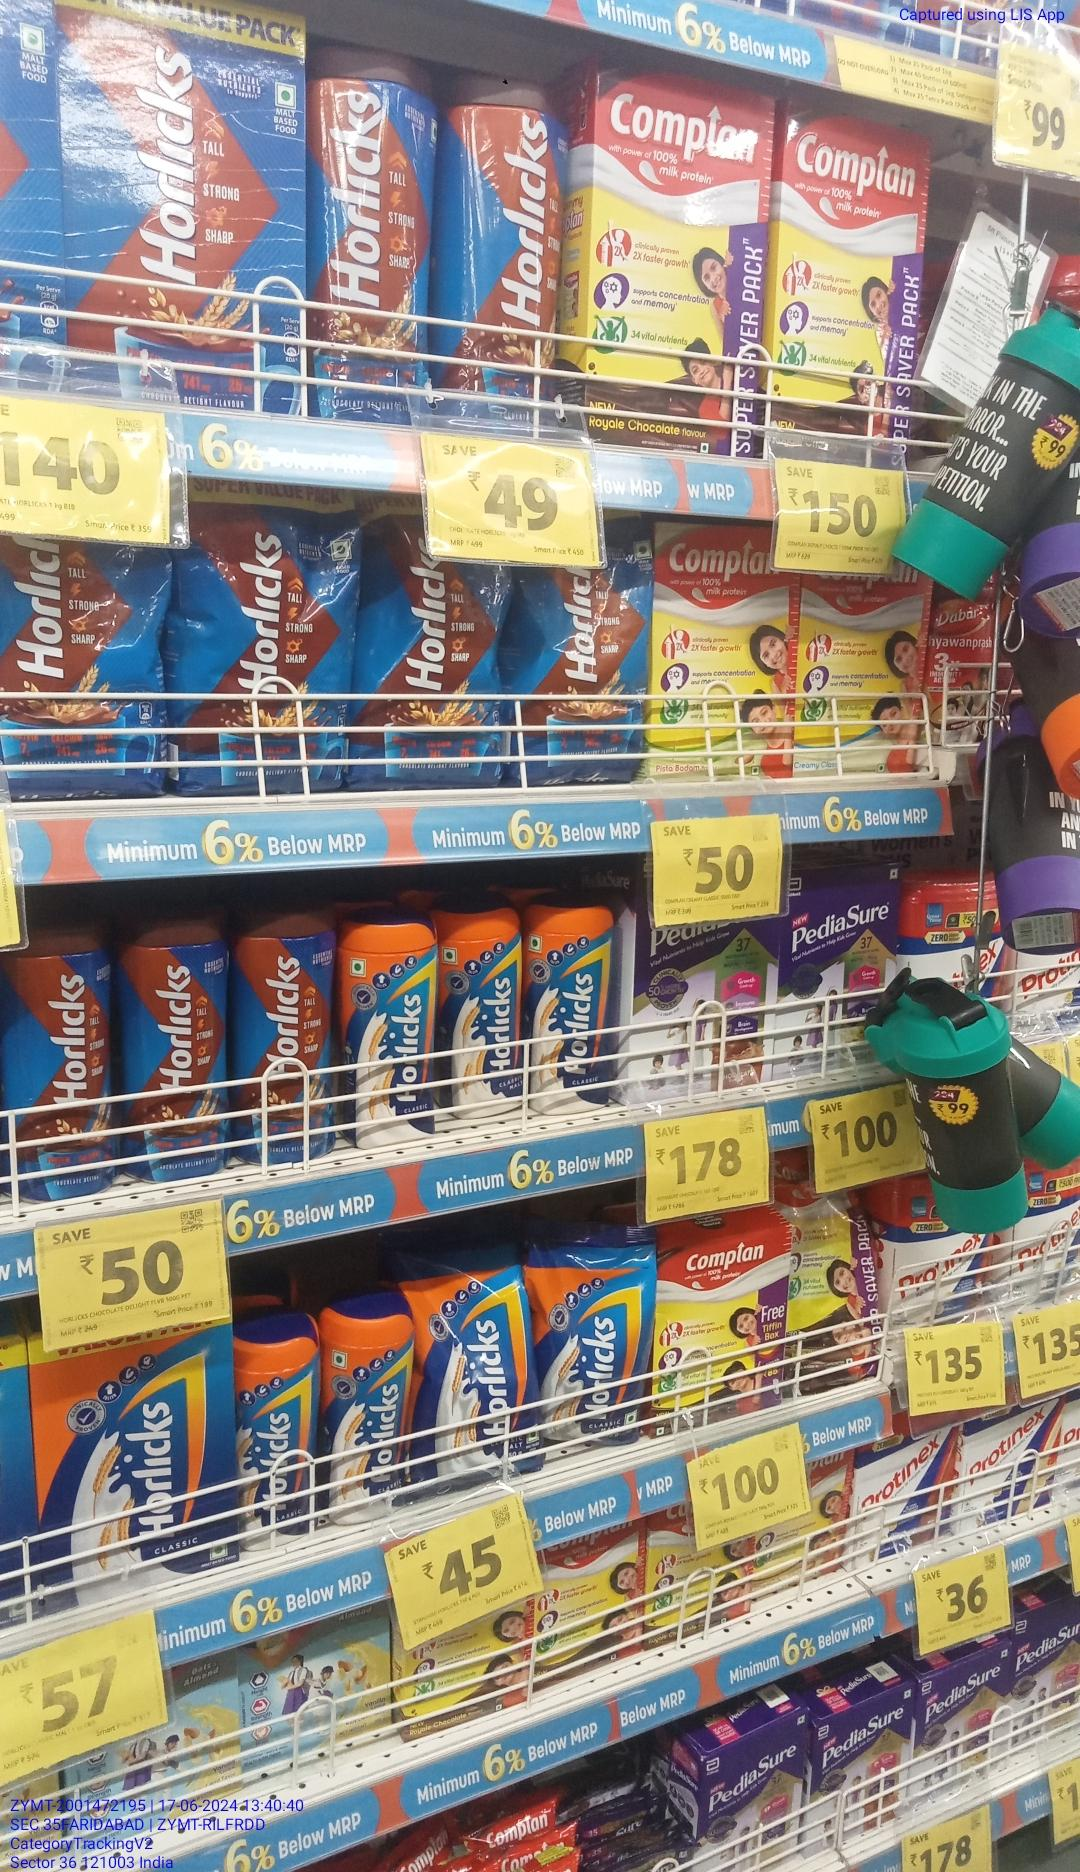COMPLAN_CHOCOLATE_1_KG_PACK: (593, 71, 769, 451), (774, 112, 926, 465)
COMPLAN_CHOCOLATE_500_GMS_PACK: (656, 1224, 786, 1422)
COMPLAN_CREAMY_CLASSIC_500_G_PACK: (796, 572, 931, 775)
COMPLAN_PISTA_BADAM_500_GMS_PACK: (654, 528, 792, 777)
COMPLAN_RC_POUCH_700_GMS_12: (789, 1183, 882, 1403)
HORLICK_CHOCOLATE_1_KG_JAR: (312, 46, 435, 427), (442, 71, 562, 422)
HORLICK_CHOCOLATE_1_KG_PACK: (62, 0, 309, 400)
HORLICK_CHOCOLATE_500_G_JAR: (4, 919, 120, 1202), (125, 908, 229, 1183), (235, 896, 333, 1164)
HORLICK_CHOCOLATE_750_G_POUCH: (180, 480, 348, 782), (352, 526, 507, 786), (512, 561, 649, 782)
HORLICK_CLASSIC_MALT_500_G_JAR: (338, 905, 432, 1148), (436, 890, 526, 1119), (318, 1292, 402, 1524), (238, 1306, 314, 1551), (528, 890, 611, 1115)
HORLICK_CLASSIC_MALT_500_G_PACK: (32, 1328, 233, 1579)
HORLICK_CLASSIC_MALT_750_G_POUCH: (405, 1248, 528, 1493), (534, 1224, 651, 1440)
